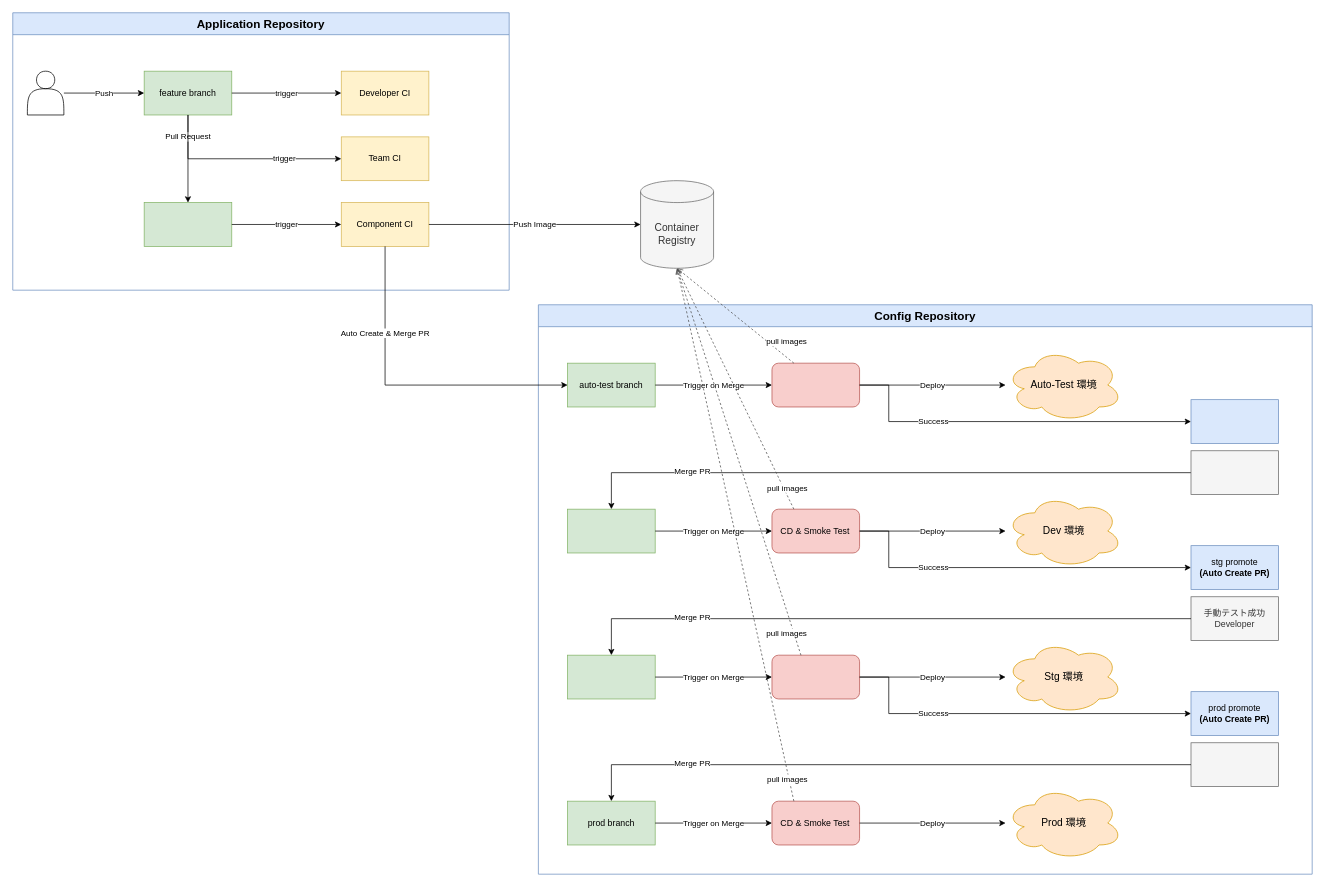
The diagram is 1325 pixels wide and 887 high, and some of its shapes have lost their labels. The centre of each missing label's shape, as x and y in pixels:
CD & Smoke Test, DAST, Perf Test: (815,676)
CD & System CI: (815,384)
dev branch: (611,530)
dev promote (Auto Create PR): (1234,421)
Developer: (45,92)
main branch: (187,224)
stg branch: (611,676)
手動テスト成功 QA, User: (1234,764)
結果確認完了: (1234,472)
